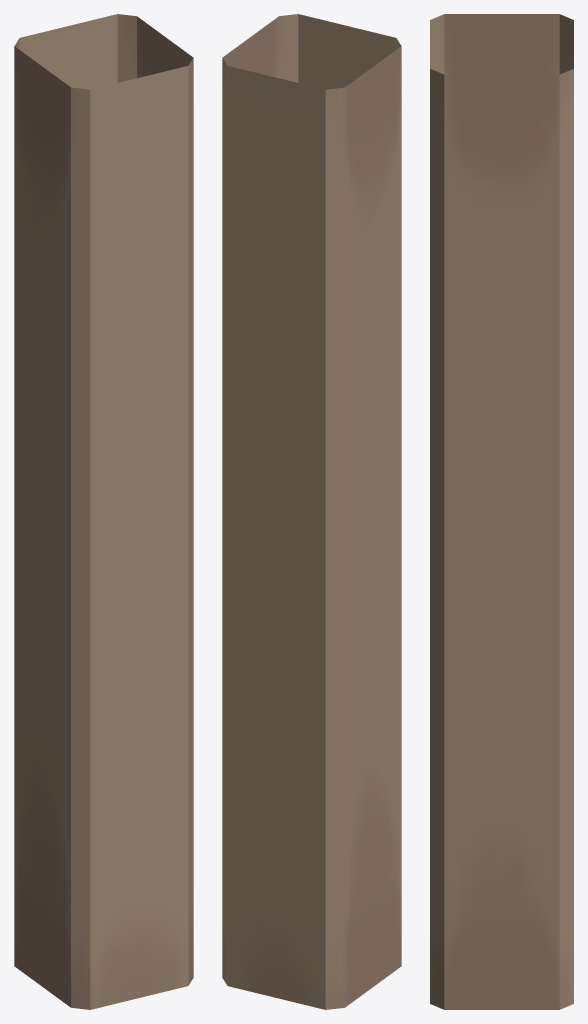
The model's file is BannisterStick.fbx.
3 views of the same model, side by side, from view 1: azimuth 30°, elevation 25°; view 2: azimuth 150°, elevation 25°; view 3: azimuth 270°, elevation 25° (orthographic).
Visible parts, largest first — view 1: BannisterStick; view 2: BannisterStick; view 3: BannisterStick.
Part boxes in pixels (box(x1,y1,x2,y2)): BannisterStick: box(14, 14, 193, 1009); BannisterStick: box(222, 14, 401, 1009); BannisterStick: box(430, 14, 573, 1009).
Bounding box in the file's own units: 0.3164 × 2.27 × 0.3164.
